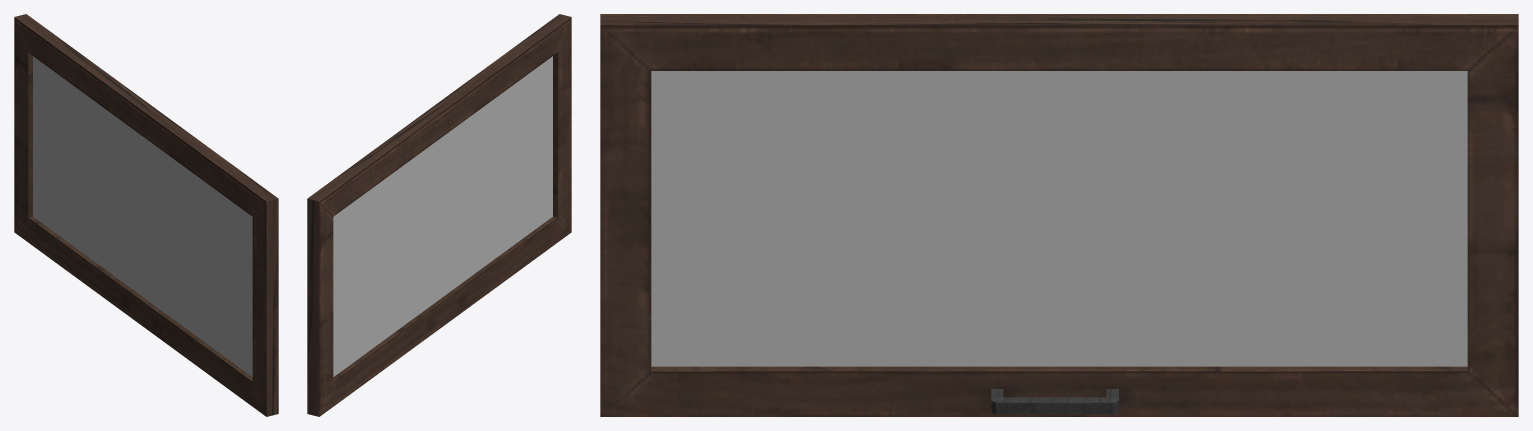
The model's file is dest_glo_bookshelf_wood01_dmg0_lod0.glb.
3 renders of one model, left to right at view 1: azimuth 30°, elevation 25°; view 2: azimuth 150°, elevation 25°; view 3: azimuth 270°, elevation 25°, orthographic. The views are drawn at different scales.
Parts seen in each view (by area): view 1: surf1, surf0; view 2: surf1, surf0; view 3: surf1, surf0.
Boxes of the visible parts, x1,y1,x2,y2 form: surf1: (33,56,252,376); surf0: (14,14,278,416); surf1: (333,56,552,376); surf0: (307,14,571,416); surf1: (651,71,1467,366); surf0: (600,14,1518,416).
Size of the model in its own units: 2.27 by 16.96 by 36.
